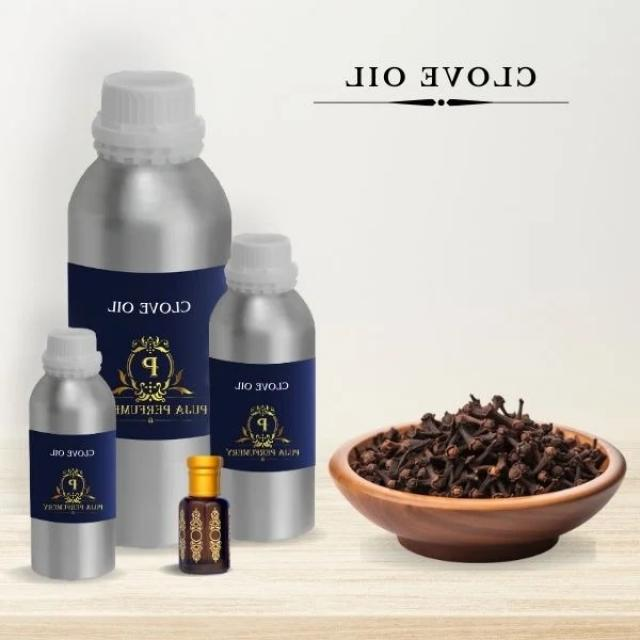clove: (351, 395, 605, 498)
